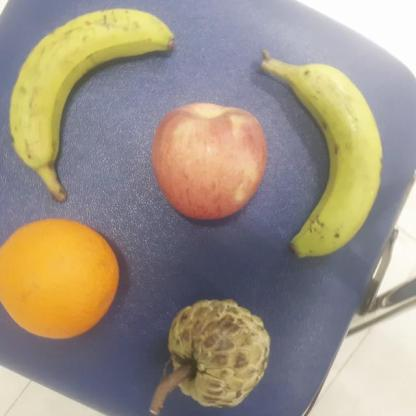annona: (163, 298, 269, 413)
banana: (5, 6, 176, 196), (258, 49, 392, 255)
orange: (0, 216, 127, 344), (148, 100, 271, 224)
